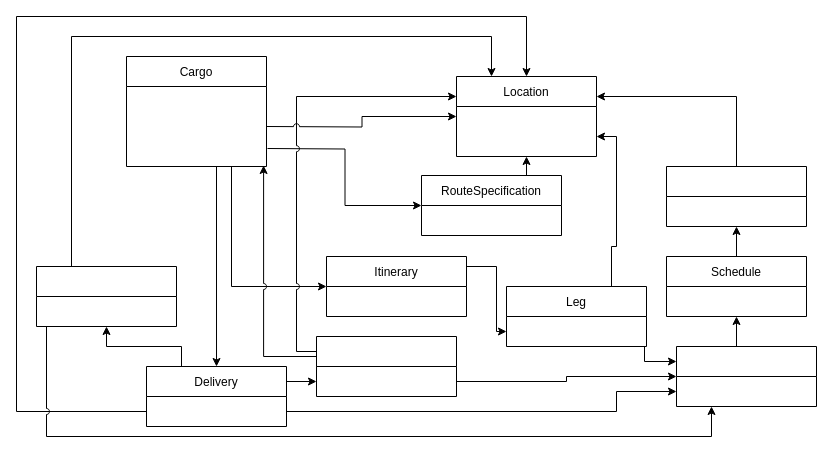
Some shapes in this 833 by 453 pixel diagram are drawn without their labels. Each missing label, with the centre of its shape:
CarrierMovement: [736,196]
HandlingActivity: [106,296]
HandlingEvent: [386,366]
Voyage: [746,376]
